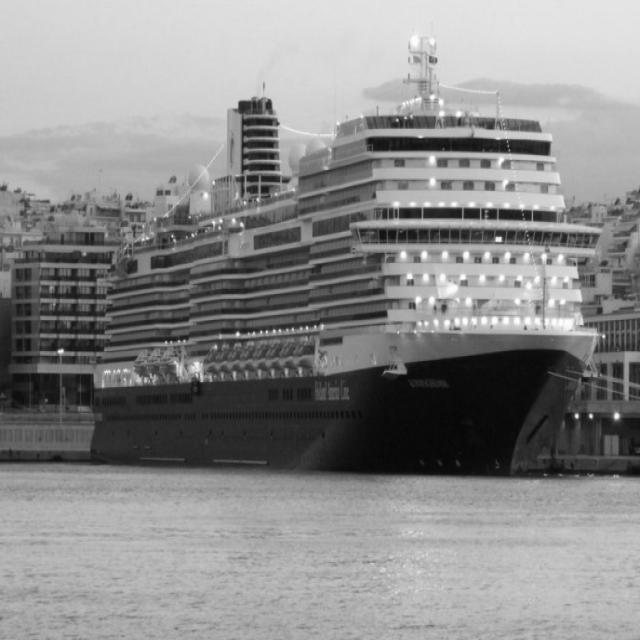cruises: (90, 83, 598, 483)
